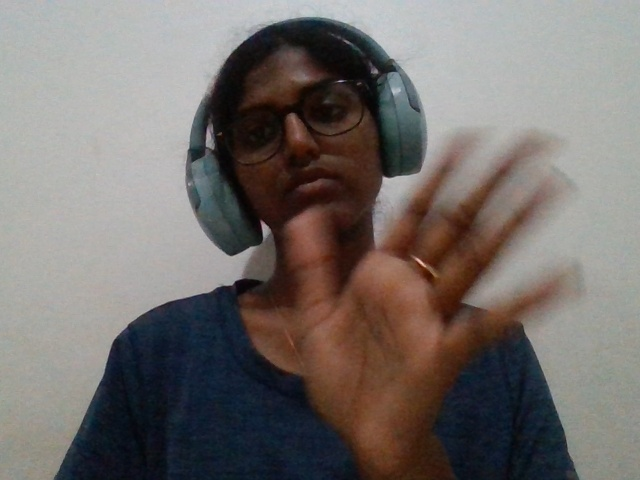Bye: (259, 127, 587, 480)
